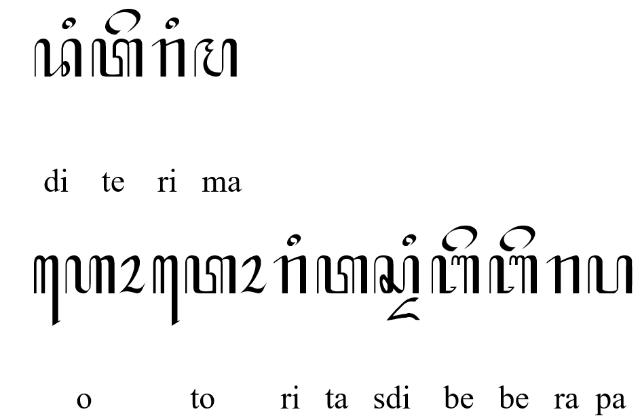_d: (386, 296, 420, 322)
b: (430, 255, 480, 296), (488, 256, 538, 294)
d: (34, 37, 82, 77)
e: (442, 224, 478, 252), (499, 224, 535, 252), (105, 7, 141, 34)
e1: (152, 253, 180, 326), (33, 256, 61, 326)
h: (64, 256, 116, 296)
i: (61, 16, 77, 30), (164, 17, 180, 30), (402, 233, 416, 246), (287, 234, 301, 246)
m: (193, 36, 237, 78)
o: (120, 254, 146, 294), (241, 254, 267, 294)
p: (587, 256, 633, 296)
r: (152, 37, 186, 79), (546, 254, 580, 294)
s: (374, 254, 420, 294)
t: (92, 36, 144, 78), (184, 255, 236, 295), (316, 256, 368, 294), (273, 254, 307, 294)
